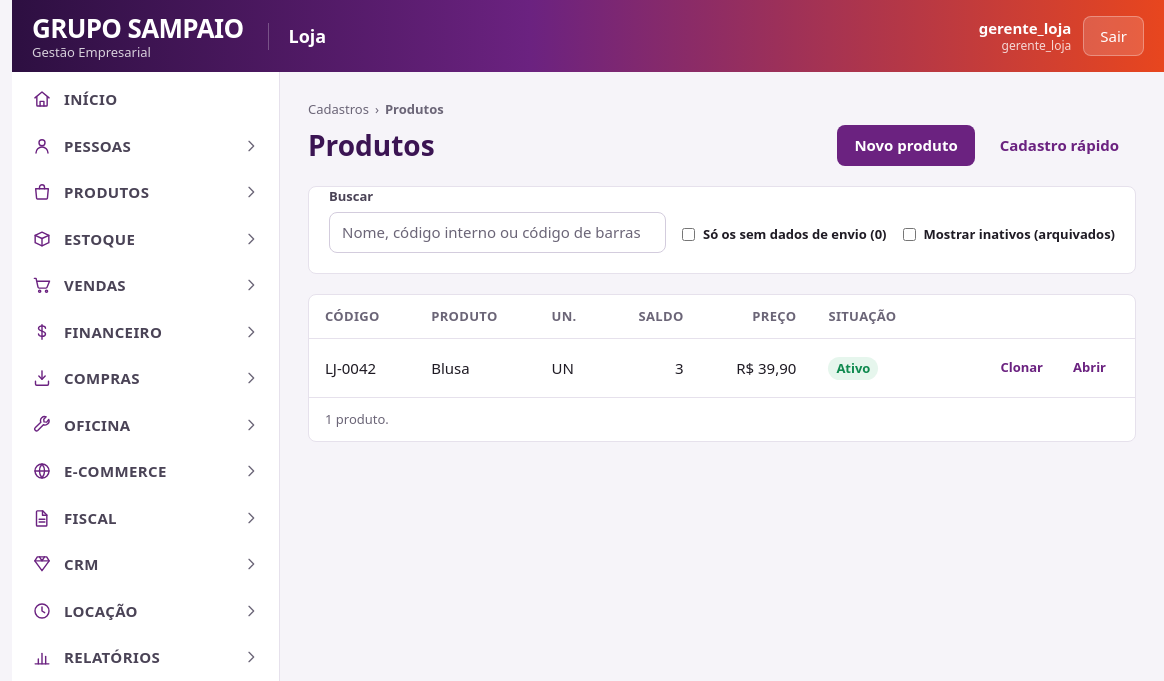
it: a lista do cadastro esconde o arquivado por padrão › pede só os ativos; "Mostrar inativos" traz o arquivado com o selo
Expected: the text "Blusa" is shown, [415,338,536,397]
Expected: the text "Saia antiga" is not shown
Click the checkbox labelled "Mostrar inativos (arquivados)".
click(909, 235)  # box [902,228,916,241]
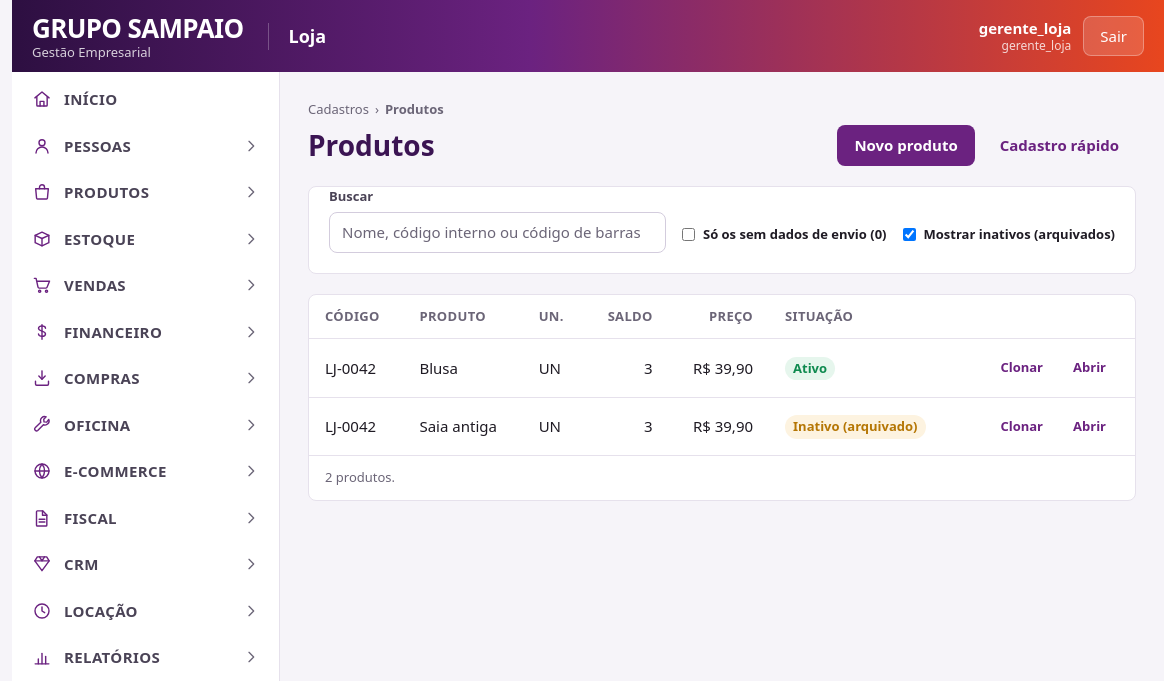
Now the text "Saia antiga" is shown, box [404,397,523,456]
Now the text "Inativo (arquivado)" is shown, box [785,415,926,438]
